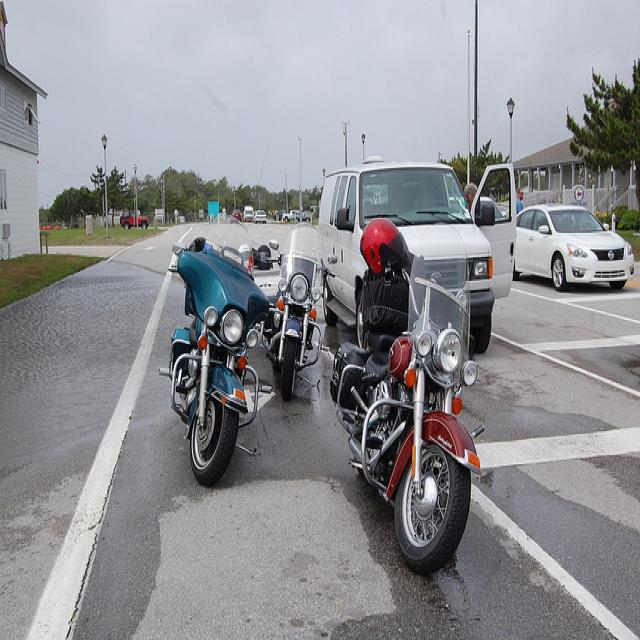motor: (330, 222, 486, 574), (159, 210, 279, 485), (261, 220, 341, 401)
